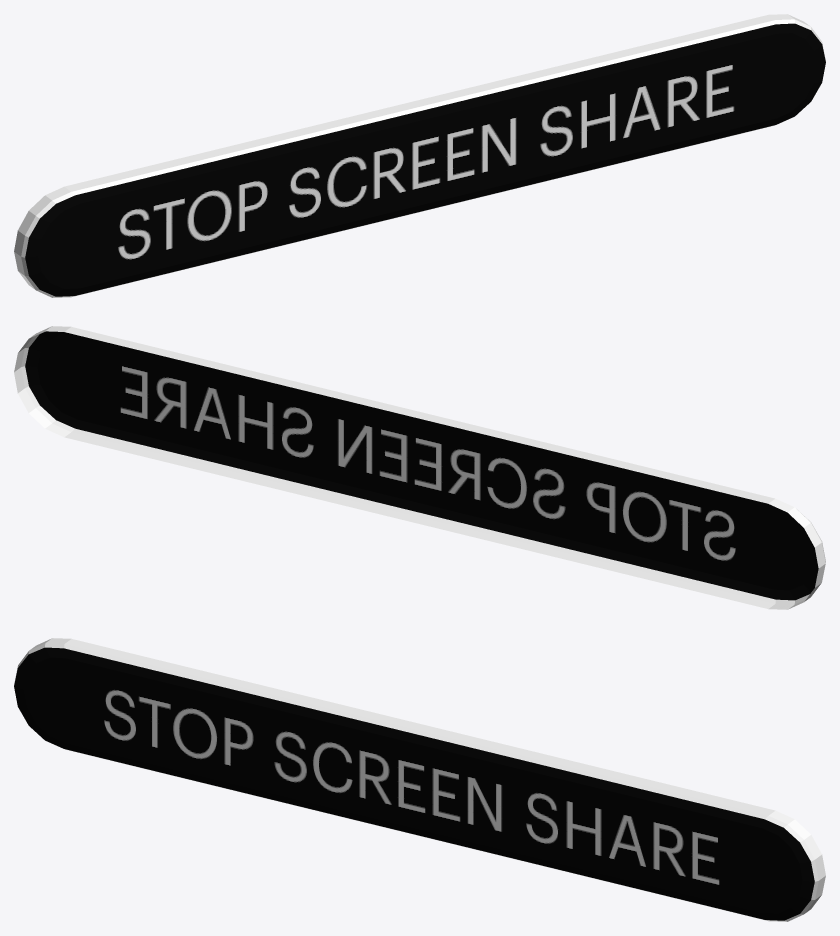
File: button-stop-screen-share.fbx
The picture shows the model from 3 angles, top to bottom: view 1: azimuth 30°, elevation 25°; view 2: azimuth 150°, elevation 25°; view 3: azimuth 330°, elevation 25°; orthographic projection.
Parts seen in each view (by area): view 1: Button-Screenshare; view 2: Button-Screenshare; view 3: Button-Screenshare.
Part boxes in pixels (<box>): Button-Screenshare: <box>14,14,825,297</box>; Button-Screenshare: <box>14,326,825,609</box>; Button-Screenshare: <box>14,638,825,921</box>.
Size of the model in its own units: 104 by 13 by 2.43.
1 material, 1 textured.
